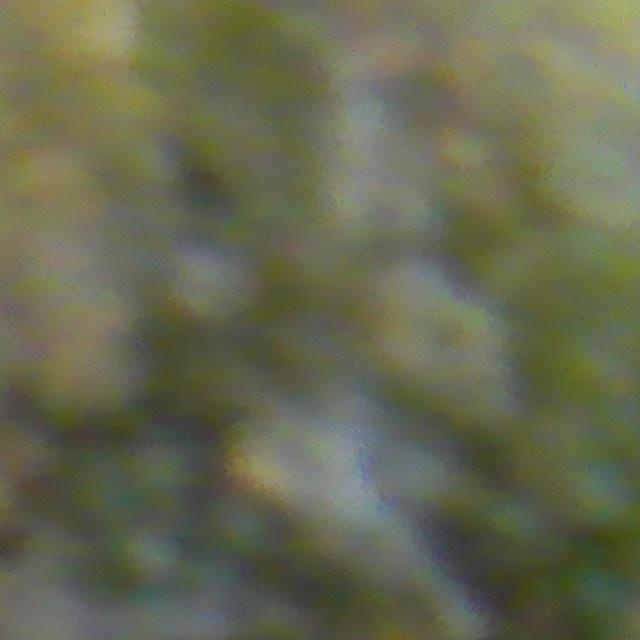SeaGrape: (563, 456, 640, 537), (210, 491, 283, 562), (564, 559, 635, 629)
